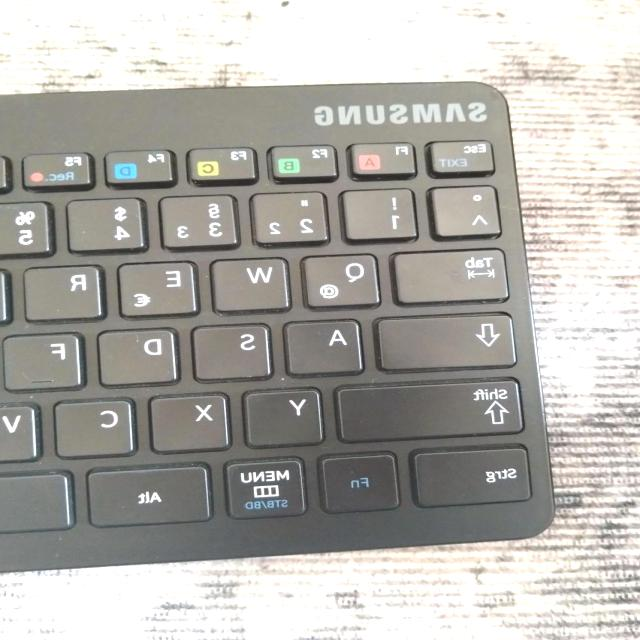1: (343, 185, 421, 240)
2: (251, 188, 333, 244)
3: (159, 192, 243, 248)
4: (66, 194, 150, 252)
5: (0, 198, 56, 256)
a: (285, 317, 367, 375)
alt-left: (84, 463, 216, 527)
c: (53, 396, 141, 458)
caret: (433, 182, 505, 236)
d: (98, 325, 184, 385)
e: (117, 259, 201, 317)
f: (2, 329, 88, 391)
keyboard: (0, 73, 568, 571)
q: (302, 251, 386, 309)
r: (23, 262, 108, 321)
s: (193, 321, 277, 380)
shift-left: (332, 377, 528, 441)
shift-lock: (376, 310, 522, 370)
strg-left: (409, 445, 539, 508)
tab: (393, 245, 515, 303)
v: (1, 401, 41, 460)
w: (211, 254, 295, 312)
x: (149, 392, 235, 452)
y: (243, 387, 327, 447)
